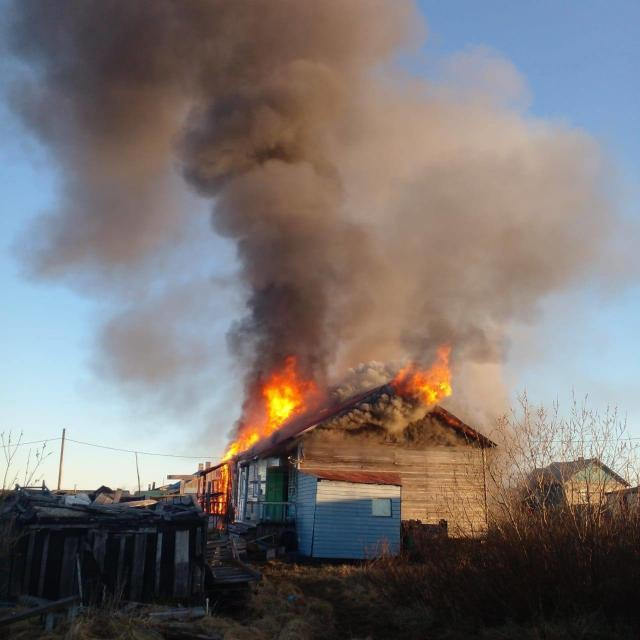Fire: (218, 354, 316, 458), (392, 344, 452, 412), (207, 464, 230, 514)
Smoke: (0, 1, 628, 438)
